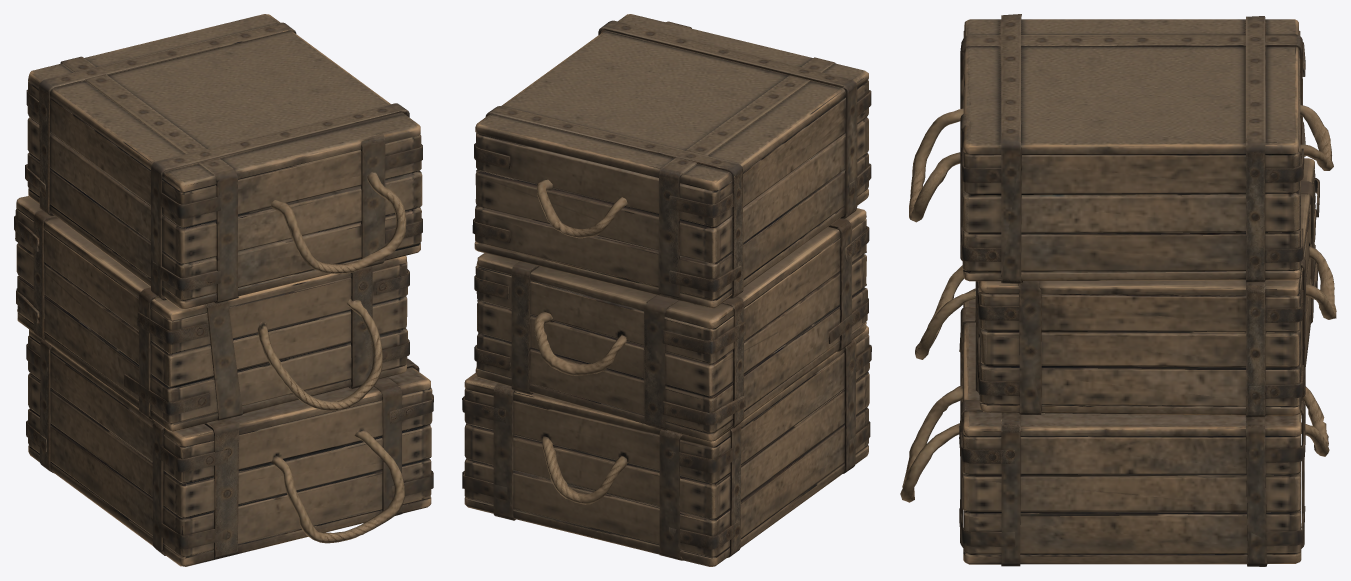
The model's file is des-crates-intact.glb.
3 renders of one model, left to right at view 1: azimuth 30°, elevation 25°; view 2: azimuth 150°, elevation 25°; view 3: azimuth 270°, elevation 25°, orthographic. The views are drawn at different scales.
Bounding box in the file's own units: 0.6763 × 0.9438 × 0.8857.
1 material, 1 textured.
